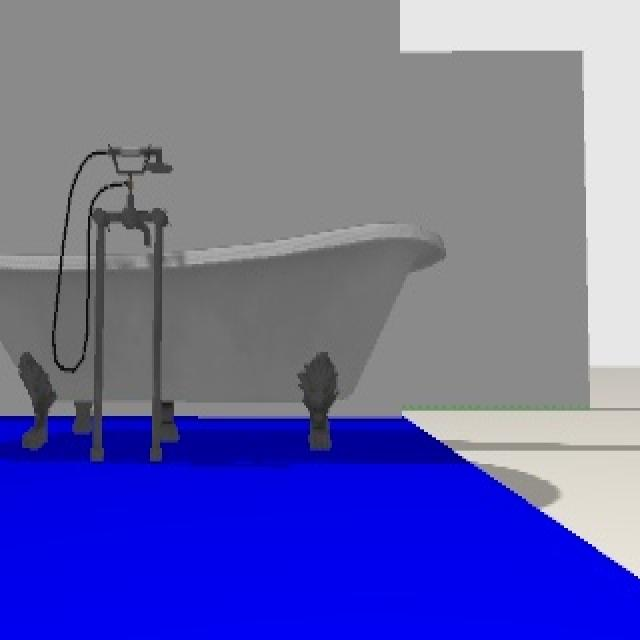bathtub: (1, 138, 446, 468)
